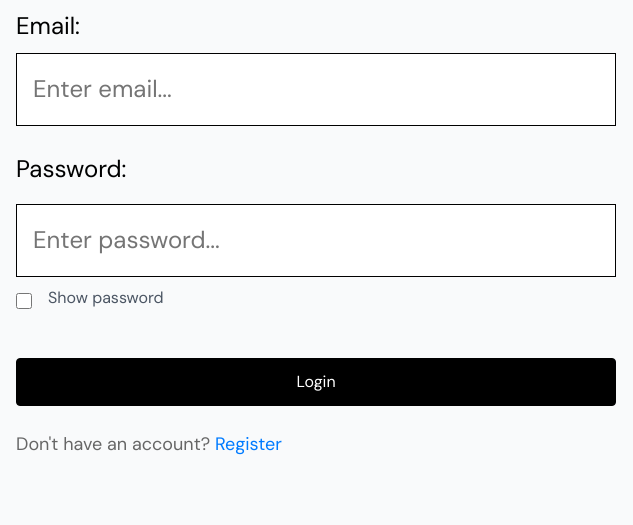
it: Login Component › unsuccessful login with incorrect credentials
The width and height of the screenshot is (633, 525).
Type "incorrect@gmail.com" into the field with placeholder "Enter email..." at x=316, y=90, box 16,53 -> 616,126
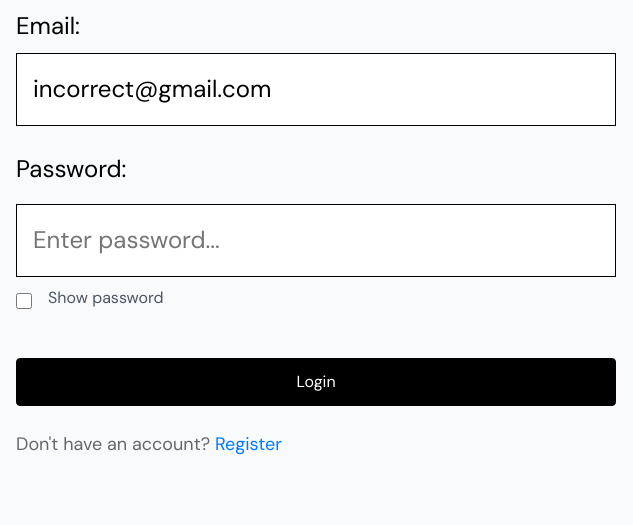
Type "wrongpassword" into the password field with placeholder "Enter password..." at x=316, y=240, box 16,204 -> 616,277
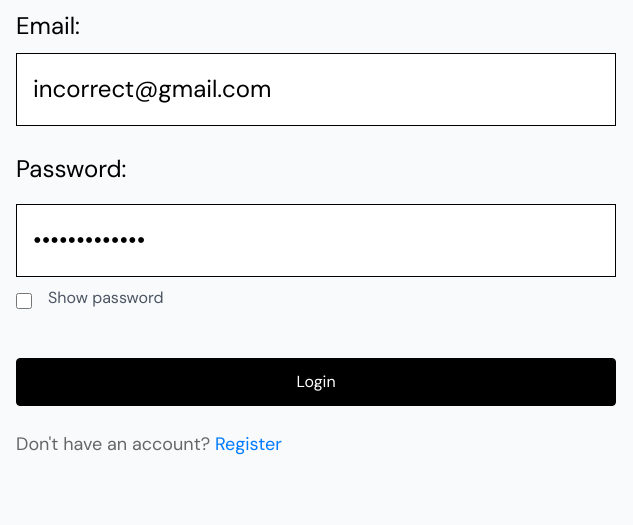
Click the button "Login" at x=316, y=382, box 16,358 -> 616,406
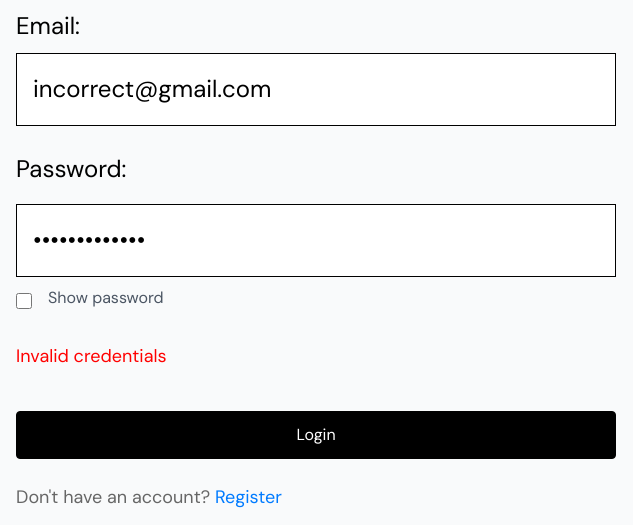
Expected: the text "Invalid credentials" is shown, 16,342 -> 616,371
